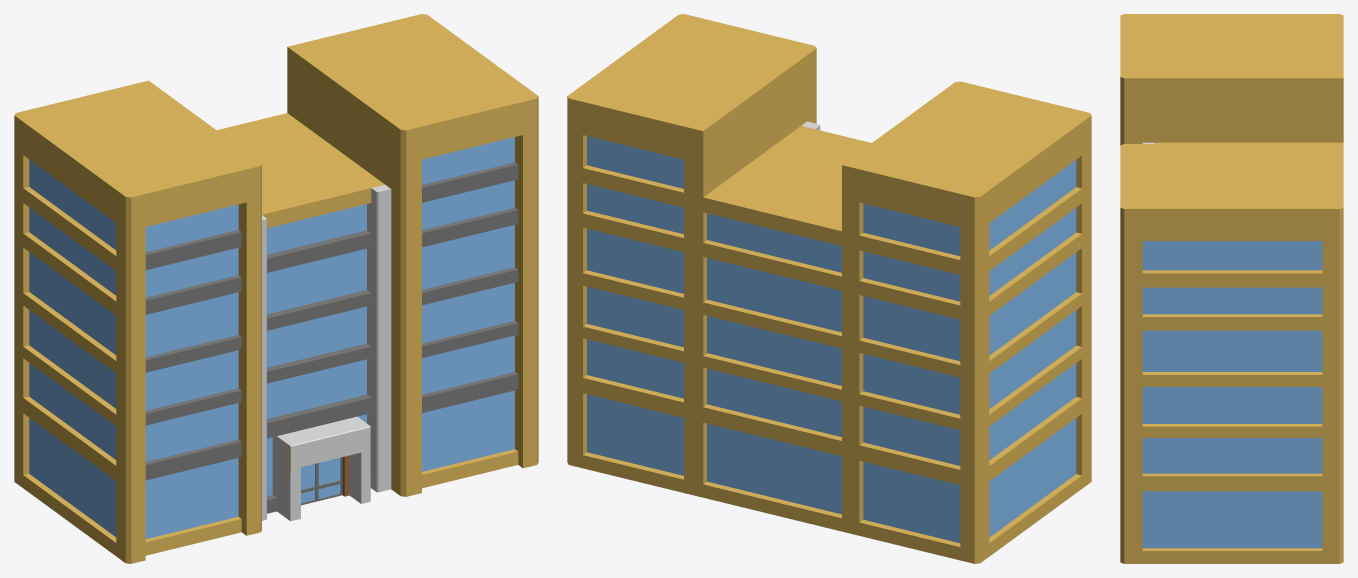
The model's file is Entorno_Edificio_02_LowPoly_MacarenaMaidana.fbx.
The picture shows the model from 3 angles, left to right: view 1: azimuth 30°, elevation 25°; view 2: azimuth 150°, elevation 25°; view 3: azimuth 270°, elevation 25°; orthographic projection. The views are drawn at different scales.
Parts seen in each view (by area): view 1: Cube.002; view 2: Cube.002; view 3: Cube.002.
Part boxes in pixels (left/top/right/bottom): Cube.002: left=14, top=14, right=538, bottom=563; Cube.002: left=567, top=14, right=1091, bottom=563; Cube.002: left=1120, top=14, right=1343, bottom=563.
Size of the model in its own units: 7088 by 6012 by 3431.
